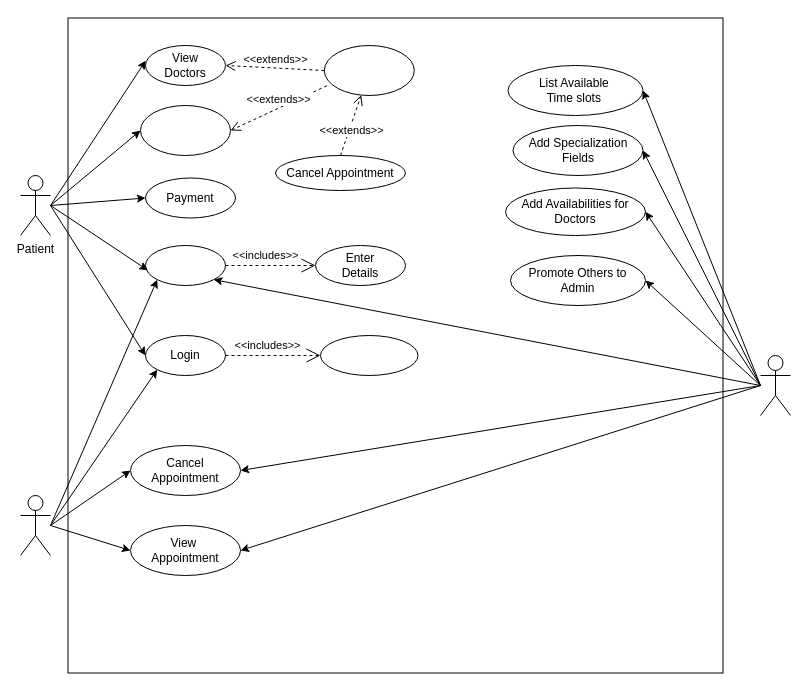
Image size: 810x690. Some labels were removed from this diagram. Each missing label, with the centre of its shape:
Admin: (x=775, y=385)
Book Appointment: (x=368, y=70)
Doctor: (x=35, y=525)
Enter Login Details: (x=369, y=355)
Register: (x=185, y=265)
View Available Time: (x=185, y=130)
